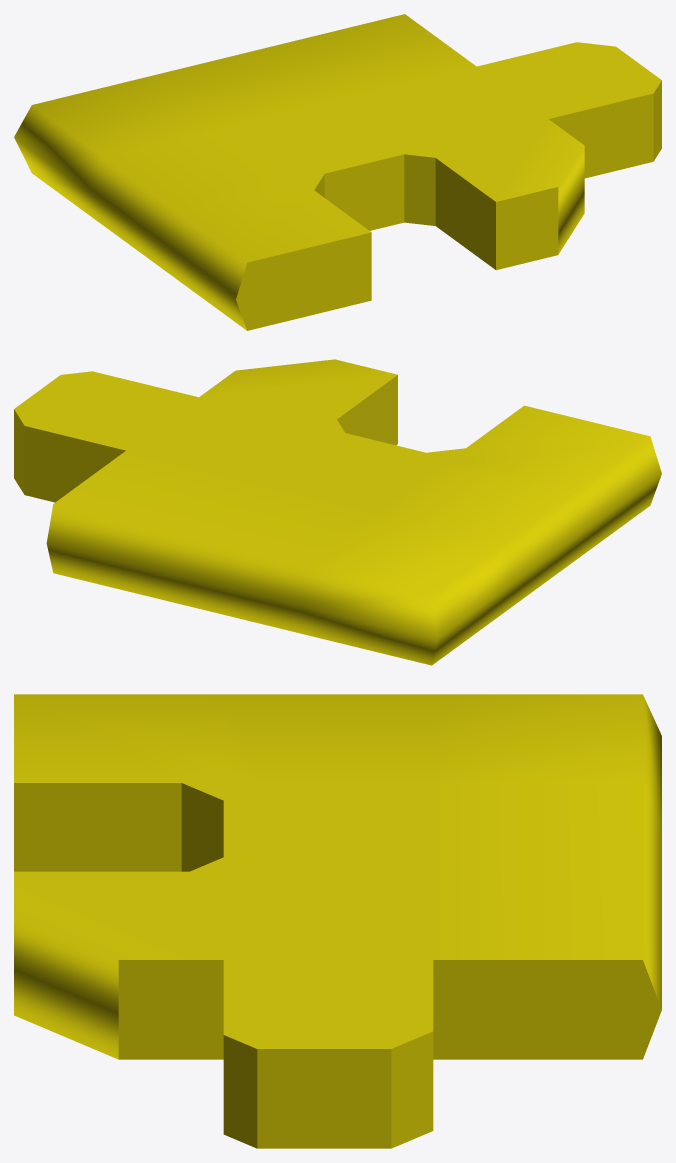
File: yellow.fbx
The picture shows the model from 3 angles, top to bottom: view 1: azimuth 30°, elevation 25°; view 2: azimuth 150°, elevation 25°; view 3: azimuth 270°, elevation 25°; orthographic projection. The views are drawn at different scales.
Parts seen in each view (by area): view 1: pCube1; view 2: pCube1; view 3: pCube1.
Part boxes in pixels (x1,y1,x2,y2): pCube1: (14,14,661,330); pCube1: (14,359,661,665); pCube1: (14,694,661,1148).
Bounding box in the file's own units: 8.33 × 1.07 × 6.29.
